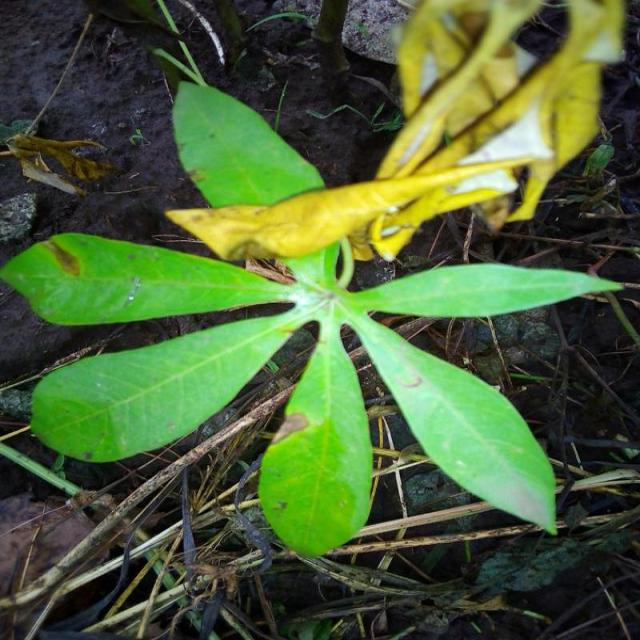cassava leaf: (3, 72, 623, 556), (258, 319, 374, 558)
